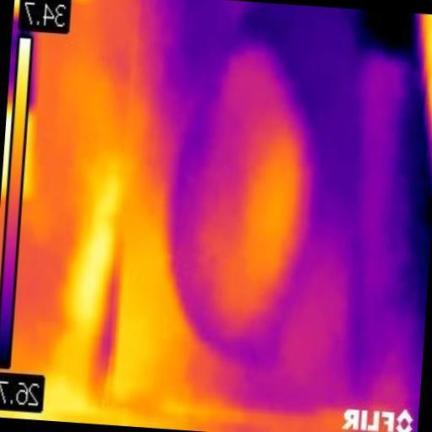mango: (174, 47, 312, 355)
